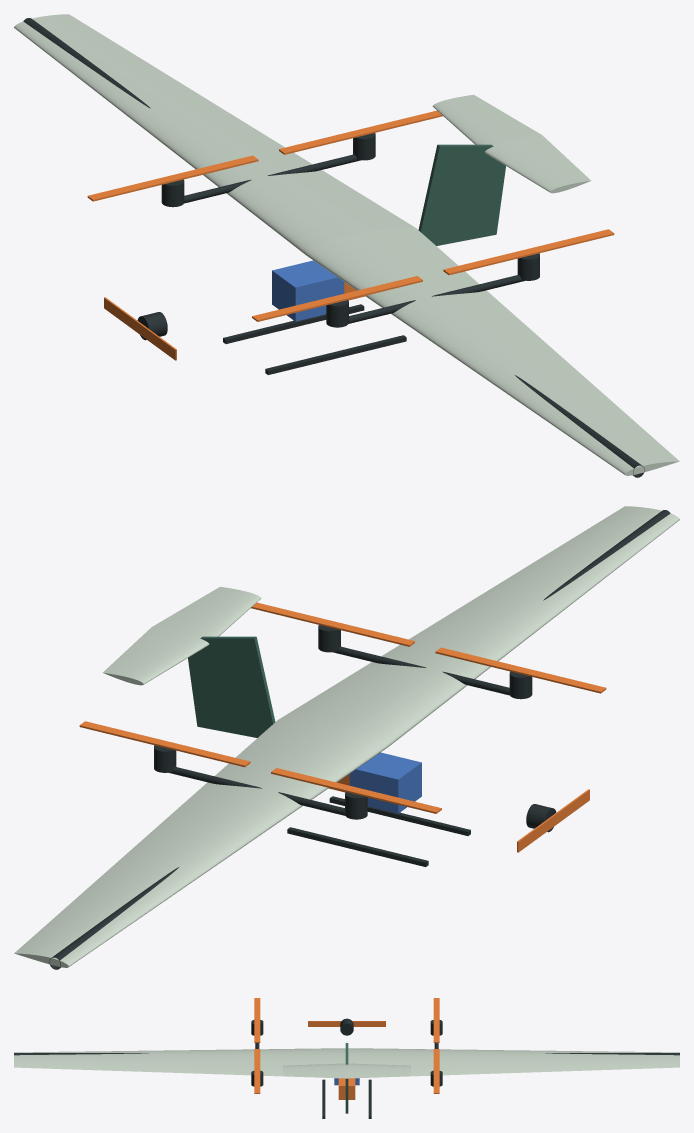
The model's file is 12-internal.glb.
3 views of the same model, one above another, from view 1: azimuth 30°, elevation 25°; view 2: azimuth 150°, elevation 25°; view 3: azimuth 270°, elevation 25° (orthographic). The views are drawn at different scales.
Visible parts, largest first — view 1: wing-1, wing1, fin, tail-1, tail1, payload, wing_spar, prop_1_230.0, prop_-1_700.0, prop_-1_230.0, prop_1_700.0, skid-1 (+4 smaller); view 2: wing1, wing-1, fin, tail1, tail-1, payload, wing_spar, prop_-1_230.0, prop_1_700.0, prop_1_230.0, prop_-1_700.0, skid1 (+4 smaller); view 3: wing-1, wing1, tail-1, tail1, wing_spar, cruise_prop, battery, prop_-1_230.0, prop_-1_700.0, prop_1_230.0, prop_1_700.0, fin (+1 smaller).
Part boxes in pixels (x1,y1,x2,y2): wing-1: [306, 227, 679, 475]; wing1: [14, 14, 414, 254]; fin: [418, 144, 505, 245]; tail-1: [484, 135, 591, 193]; tail1: [432, 94, 541, 145]; payload: [272, 260, 344, 321]; wing_spar: [23, 18, 644, 477]; prop_1_230.0: [87, 155, 258, 201]; prop_-1_700.0: [443, 229, 614, 275]; prop_-1_230.0: [252, 276, 422, 321]; prop_1_700.0: [279, 110, 442, 154]; skid-1: [265, 335, 406, 374]; wing1: [14, 719, 387, 967]; wing-1: [279, 506, 679, 746]; fin: [188, 636, 275, 737]; tail1: [102, 627, 209, 685]; tail-1: [152, 586, 261, 637]; payload: [349, 752, 421, 813]; wing_spar: [49, 510, 670, 969]; prop_-1_230.0: [435, 647, 606, 693]; prop_1_700.0: [79, 721, 250, 767]; prop_1_230.0: [271, 768, 441, 813]; prop_-1_700.0: [251, 602, 414, 646]; skid1: [287, 827, 428, 866]; wing-1: [14, 1048, 345, 1078]; wing1: [348, 1048, 679, 1078]; tail-1: [283, 1063, 346, 1078]; tail1: [347, 1063, 410, 1078]; wing_spar: [14, 1053, 679, 1055]; cruise_prop: [308, 1021, 385, 1026]; battery: [338, 1078, 355, 1099]; prop_-1_230.0: [254, 998, 260, 1042]; prop_-1_700.0: [254, 1049, 260, 1093]; prop_1_230.0: [433, 998, 439, 1042]; prop_1_700.0: [433, 1049, 439, 1093]; fin: [345, 1043, 348, 1113].
Bounding box in the file's own units: 989 × 390 × 2600.
